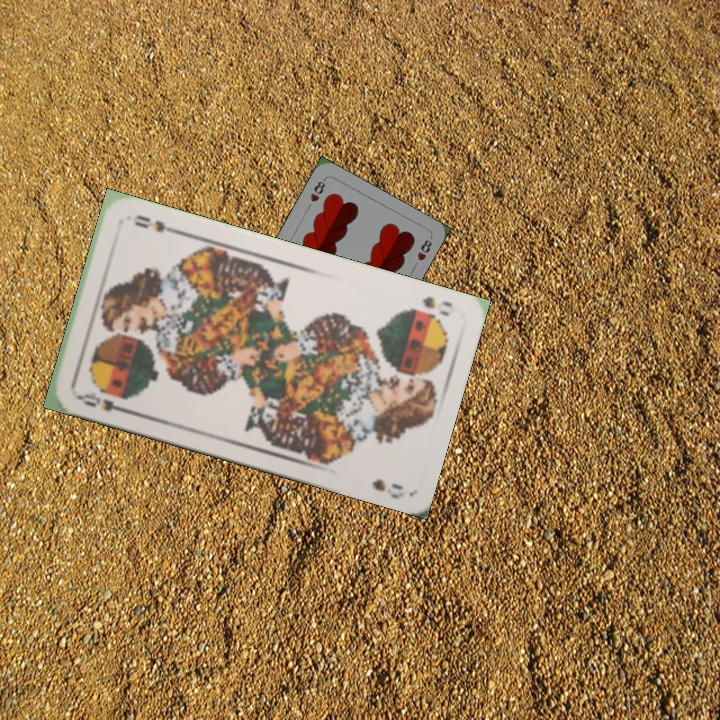H8: (306, 175, 328, 205)
SO: (71, 388, 130, 415), (418, 292, 455, 319)
